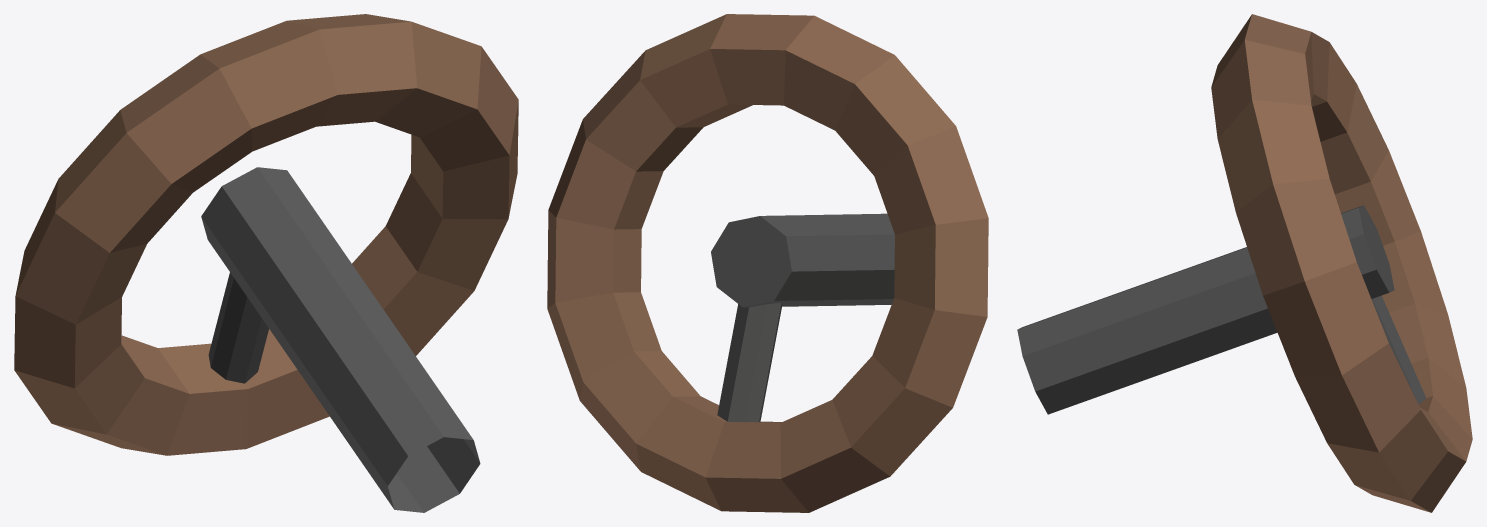
File: SteeringWheel.fbx
The picture shows the model from 3 angles, left to right: view 1: azimuth 30°, elevation 25°; view 2: azimuth 150°, elevation 25°; view 3: azimuth 270°, elevation 25°; orthographic projection. The views are drawn at different scales.
Parts seen in each view (by area): view 1: SteeringWheel; view 2: SteeringWheel; view 3: SteeringWheel.
Boxes of the visible parts, <box> form: SteeringWheel: <box>14,14,518,512</box>; SteeringWheel: <box>547,14,988,512</box>; SteeringWheel: <box>1017,14,1472,512</box>.
Bounding box in the file's own units: 60.36 × 56.15 × 51.83.
